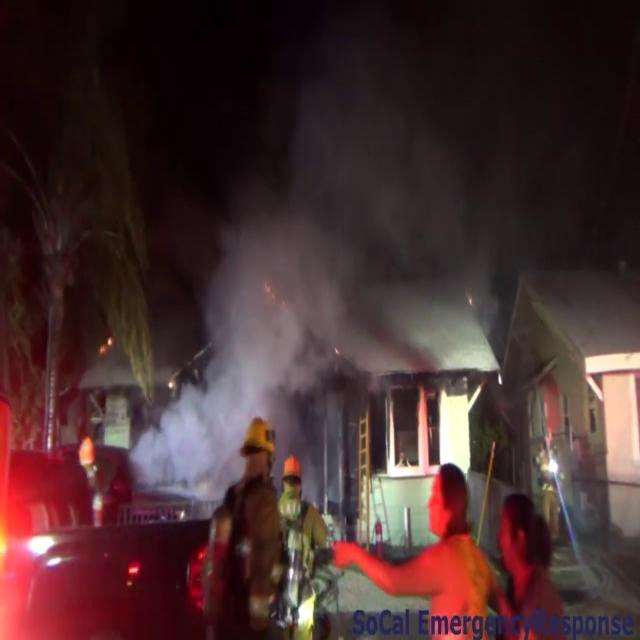Smoke: (156, 4, 506, 482)
